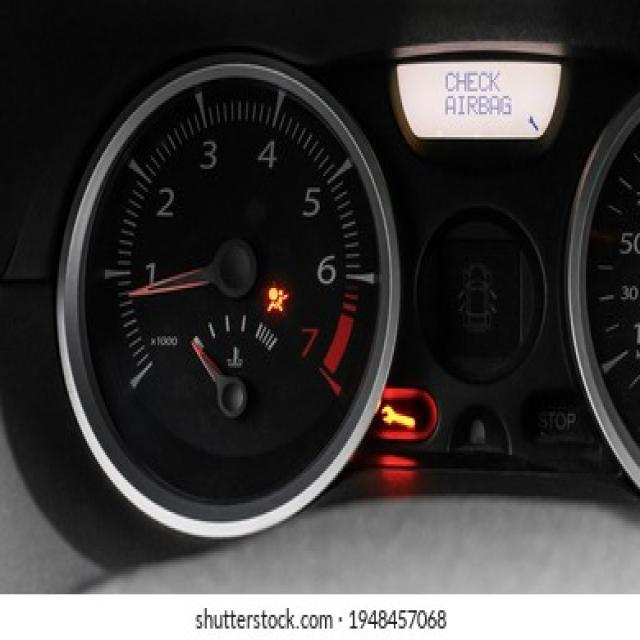SRS-Airbag: (264, 284, 291, 313)
